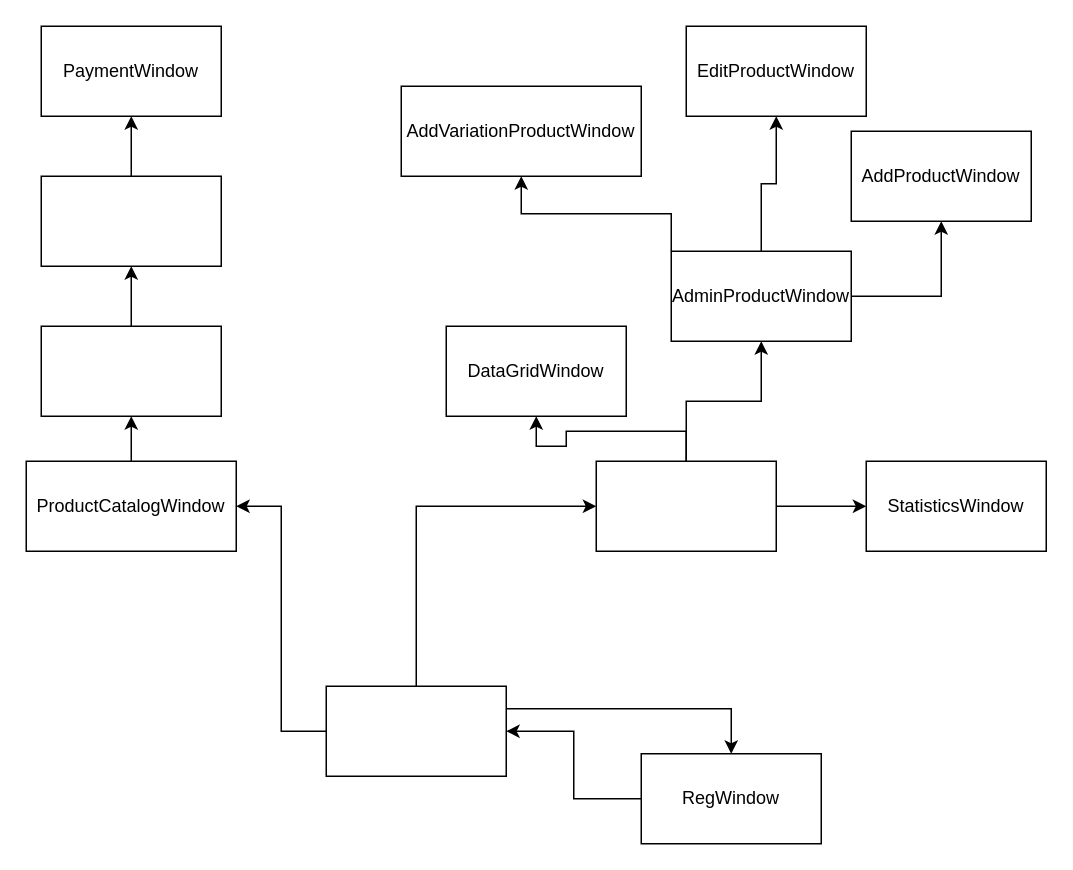
This 1073x870 diagram has some shape labels left out. The shapes that lost their labels are listed below. From the top down, each one's centre as x and y in pixels, then its label:
(130,220): ShoppingCartWindow
(130,370): ProductCartWindow
(685,505): AdminWindow
(415,730): AuthWindow
